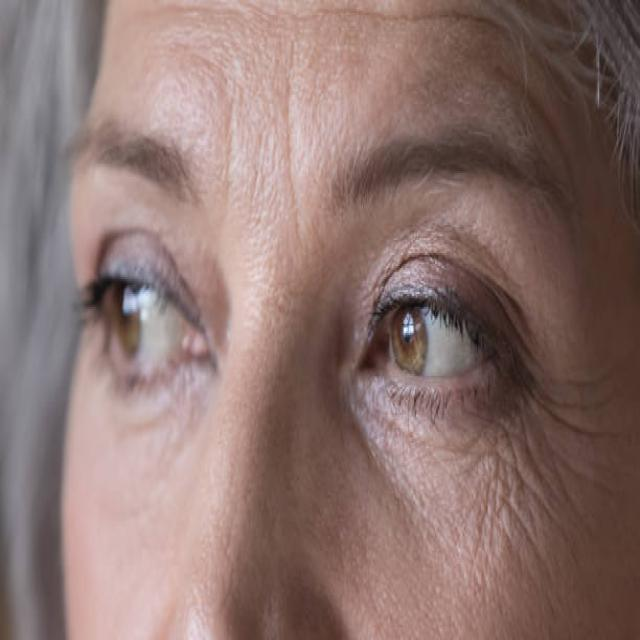Dry-Skin: (368, 15, 574, 239), (525, 271, 640, 531), (88, 450, 218, 639), (205, 0, 335, 175), (413, 472, 552, 590)
